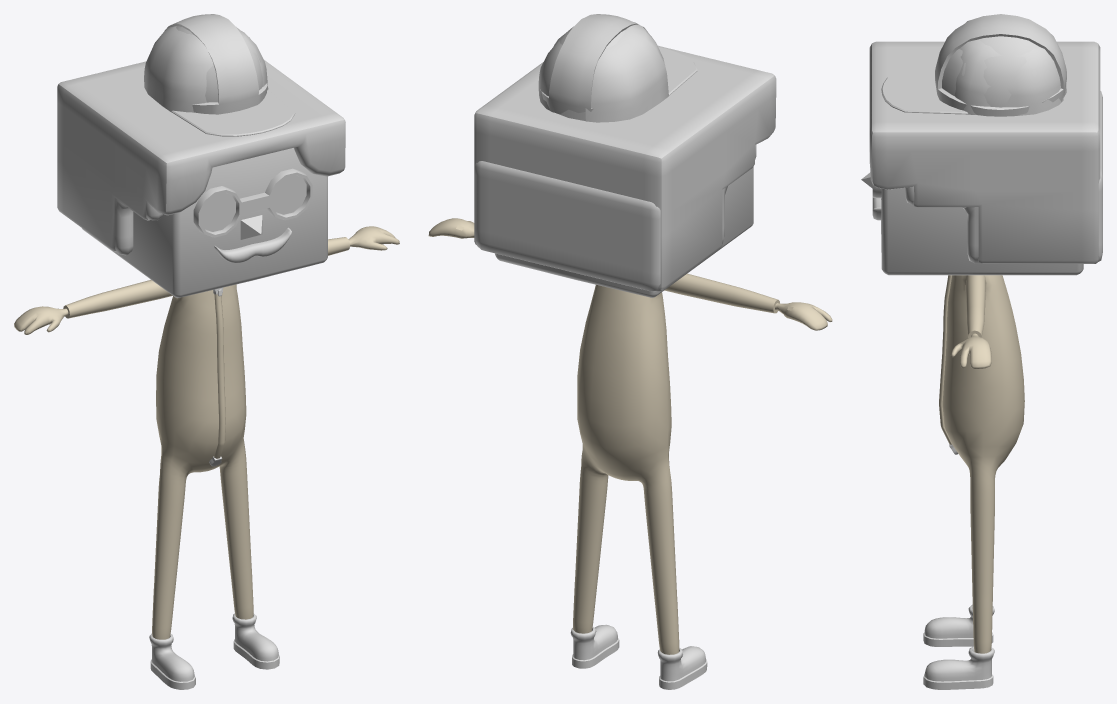
Rendered from PersonajeToAnimate_Unity.fbx.
The picture shows the model from 3 angles, left to right: view 1: azimuth 30°, elevation 25°; view 2: azimuth 150°, elevation 25°; view 3: azimuth 270°, elevation 25°; orthographic projection. The views are drawn at different scales.
Parts seen in each view (by area): view 1: Pelo_Nieto, Cuerpo, Cabeza, Gorra, CascoObrero, Ojos, Zapato002, Cremallera, Pelo_Abuelo, Bigote; view 2: Pelo_Nieto, Cuerpo, Pelo_Abuelo, Gorra, CascoObrero, Zapato002, Cabeza; view 3: Pelo_Nieto, Cuerpo, Cabeza, CascoObrero, Gorra, Zapato002, Pelo_Abuelo, Cremallera.
Boxes of the visible parts, bbox=[...] form: Pelo_Nieto: bbox=[57, 60, 345, 251]; Cuerpo: bbox=[14, 226, 399, 639]; Cabeza: bbox=[82, 148, 327, 297]; Gorra: bbox=[144, 26, 295, 136]; CascoObrero: bbox=[164, 14, 267, 114]; Ojos: bbox=[193, 168, 312, 237]; Zapato002: bbox=[149, 613, 279, 689]; Cremallera: bbox=[214, 294, 225, 458]; Pelo_Abuelo: bbox=[114, 198, 162, 255]; Bigote: bbox=[214, 227, 291, 262]; Pelo_Nieto: bbox=[474, 45, 776, 289]; Cuerpo: bbox=[428, 218, 832, 654]; Pelo_Abuelo: bbox=[474, 144, 756, 291]; Gorra: bbox=[538, 22, 697, 122]; CascoObrero: bbox=[540, 14, 647, 113]; Zapato002: bbox=[570, 624, 707, 689]; Cabeza: bbox=[495, 167, 753, 297]; Pelo_Nieto: bbox=[869, 41, 1100, 263]; Cuerpo: bbox=[942, 275, 1024, 653]; Cabeza: bbox=[881, 188, 1083, 275]; CascoObrero: bbox=[935, 14, 1066, 116]; Gorra: bbox=[881, 20, 1066, 115]; Zapato002: bbox=[923, 604, 994, 689]; Pelo_Abuelo: bbox=[905, 91, 1102, 263]; Cremallera: bbox=[939, 275, 951, 444].
Size of the model in its own units: 119 by 190 by 64.2.
